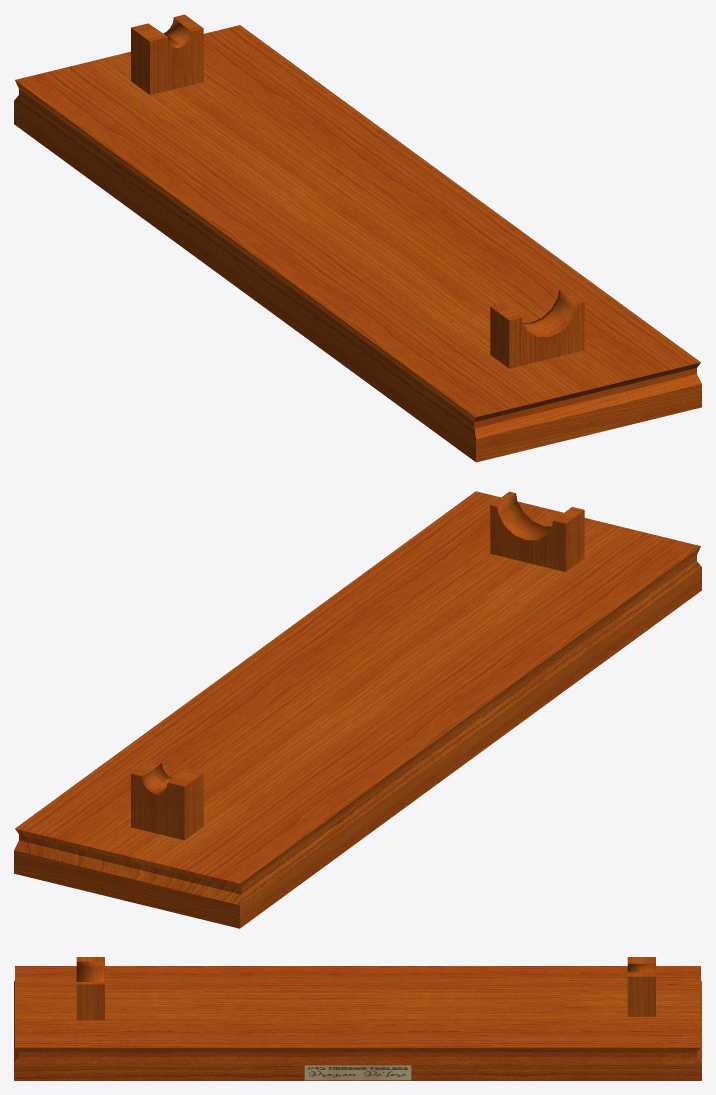
Rendered from baseball_mount.fbx.
3 renders of one model, top to bottom at view 1: azimuth 30°, elevation 25°; view 2: azimuth 150°, elevation 25°; view 3: azimuth 270°, elevation 25°, orthographic. The views are drawn at different scales.
Visible parts, largest first — view 1: Cube.001; view 2: Cube.001; view 3: Cube.001.
Part boxes in pixels (box(x1,y1,x2,y2)): Cube.001: box(14, 14, 701, 462); Cube.001: box(14, 491, 701, 928); Cube.001: box(14, 957, 701, 1080).
Size of the model in its own units: 0.2016 by 0.0832 by 0.7089.
